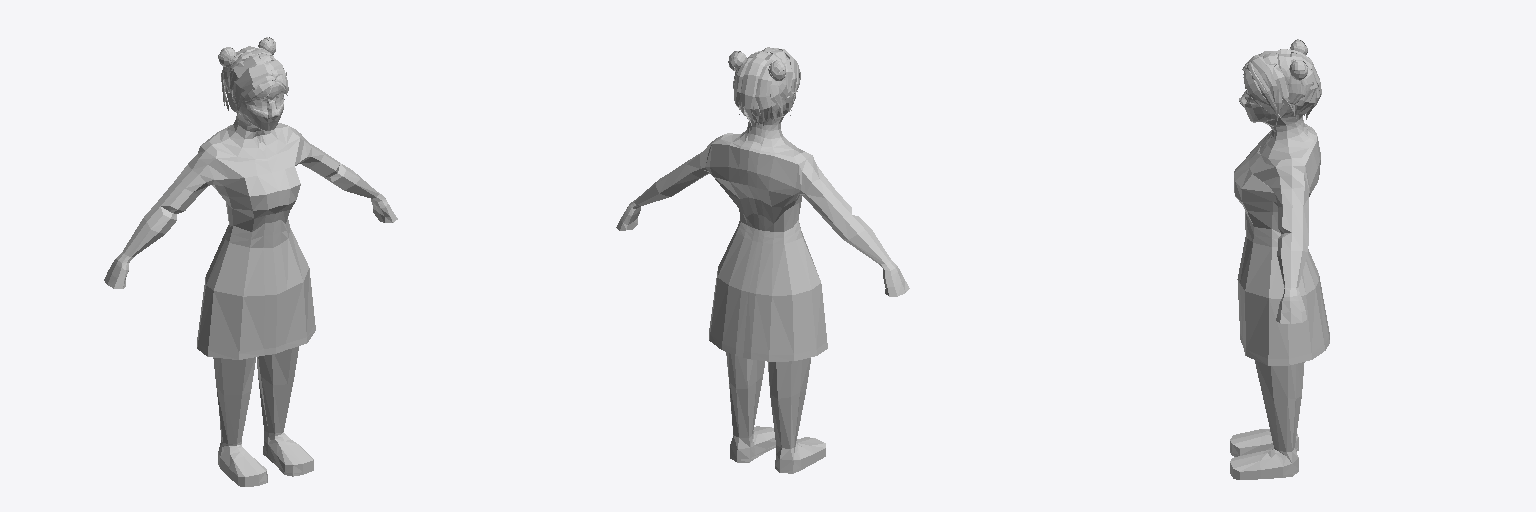
Rendered from Casey.obj.
3 views of the same model, side by side, from view 1: azimuth 30°, elevation 25°; view 2: azimuth 150°, elevation 25°; view 3: azimuth 270°, elevation 25° (orthographic).
Parts seen in each view (by area): view 1: Cube.018; view 2: Cube.018; view 3: Cube.018.
Part boxes in pixels (x1,y1,x2,y2): Cube.018: (104, 37, 397, 486); Cube.018: (616, 47, 909, 473); Cube.018: (1230, 39, 1329, 479).
Size of the model in its own units: 3.62 by 4.98 by 1.09.